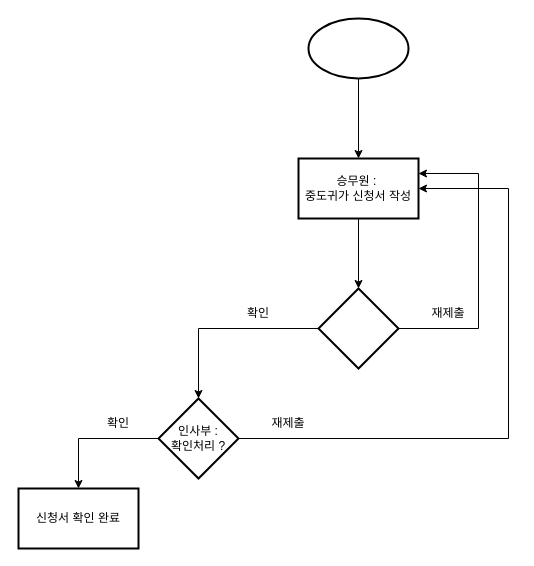
Image size: 534x566. Some labels were removed from this diagram. Each missing label, with the centre of its shape:
"관리자 : 중도귀가 처리" goes at pixel 358 48.
"관리자 : 확인처리?" goes at pixel 358 328.
